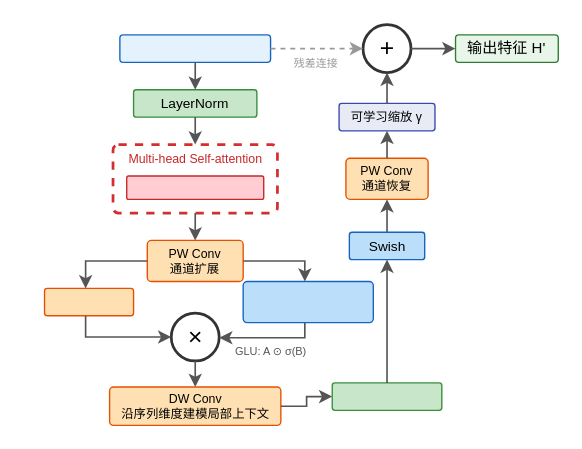
This 582x449 diagram has some shape labels left out. The shapes that lost their labels are listed below. From the top down, each one's centre as x and y in pixels, then its label:
At pixel 195 48: "输入特征 H".
At pixel 194 187: "Q · K · V 多头并行".
At pixel 88 301: "特征分支 A".
At pixel 307 301: "Sigmoid Gate σ(B)".
At pixel 386 396: "BatchNorm".
